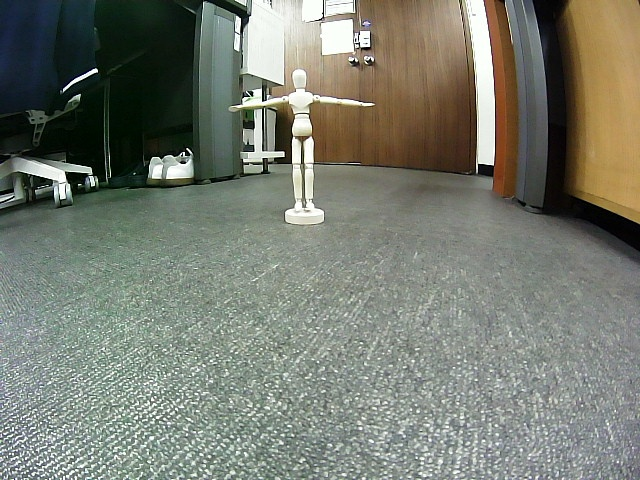person: (229, 69, 376, 212)
